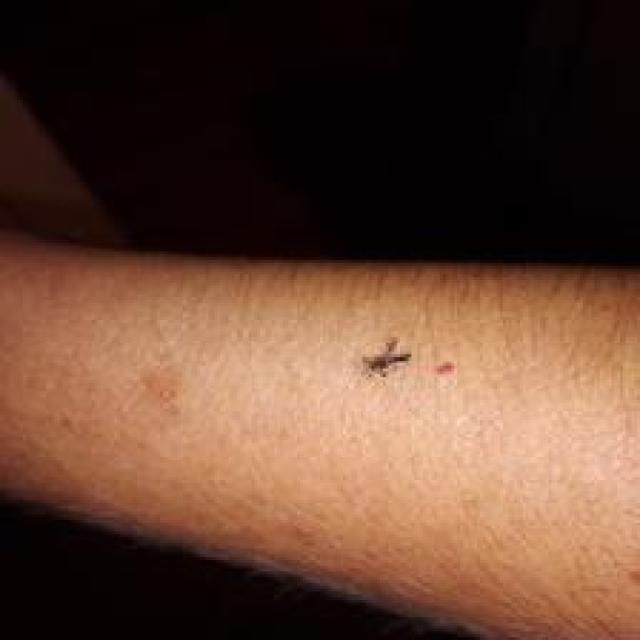Aedes albopictus: (360, 336, 411, 378)
